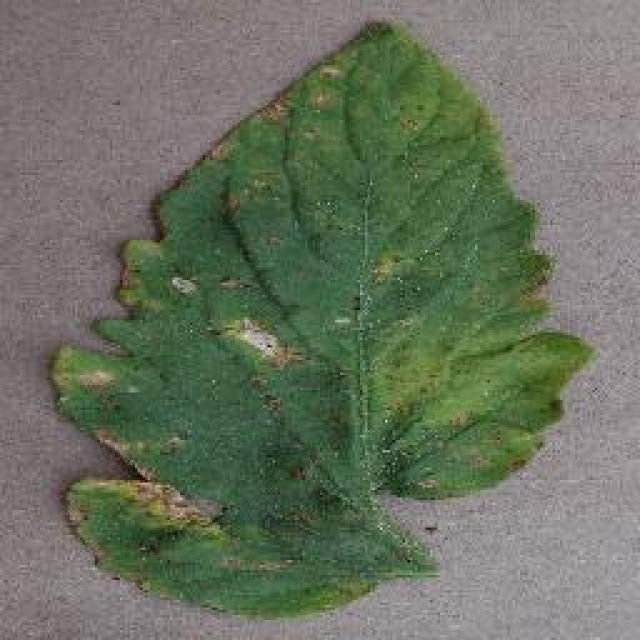Tomato bacterial spot leaf: (50, 13, 600, 625)
